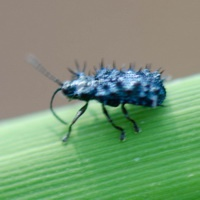insect: (27, 56, 165, 141)
